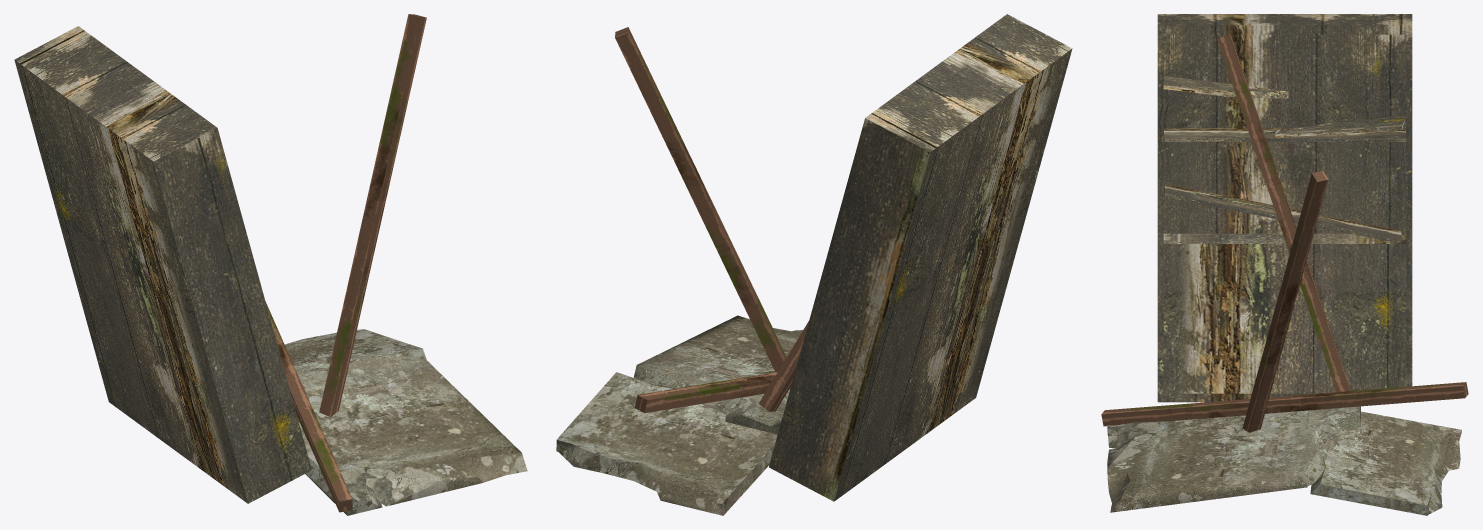
File: Gareki2.fbx
3 renders of one model, left to right at view 1: azimuth 30°, elevation 25°; view 2: azimuth 150°, elevation 25°; view 3: azimuth 270°, elevation 25°, orthographic. The views are drawn at different scales.
Parts seen in each view (by area): view 1: pCube1, polySurface9, pCube6, pCube7, polySurface11; view 2: pCube1, polySurface11, polySurface9, pCube6, pCube7, pCube5; view 3: pCube1, polySurface9, polySurface11, pCube7, pCube5, pCube6, pCube4, pCube3, polySurface2, polySurface1.
Part boxes in pixels (<box>): pCube1: <box>14,26,311,503</box>; polySurface9: <box>296,356,527,515</box>; pCube6: <box>319,14,426,417</box>; pCube7: <box>265,301,352,512</box>; polySurface11: <box>284,329,426,371</box>; pCube1: <box>769,14,1072,501</box>; polySurface11: <box>556,372,777,515</box>; polySurface9: <box>633,315,802,434</box>; pCube6: <box>615,27,786,372</box>; pCube7: <box>634,372,790,413</box>; pCube5: <box>758,321,808,411</box>; pCube1: <box>1157,14,1412,402</box>; polySurface9: <box>1107,388,1360,512</box>; polySurface11: <box>1310,411,1461,515</box>; pCube7: <box>1101,382,1468,426</box>; pCube5: <box>1217,34,1351,391</box>; pCube6: <box>1242,170,1328,432</box>; pCube4: <box>1164,184,1401,243</box>; pCube3: <box>1164,128,1405,141</box>; polySurface2: <box>1275,116,1405,137</box>; polySurface1: <box>1163,76,1288,98</box>.
Size of the model in its own units: 299 by 316 by 289.
